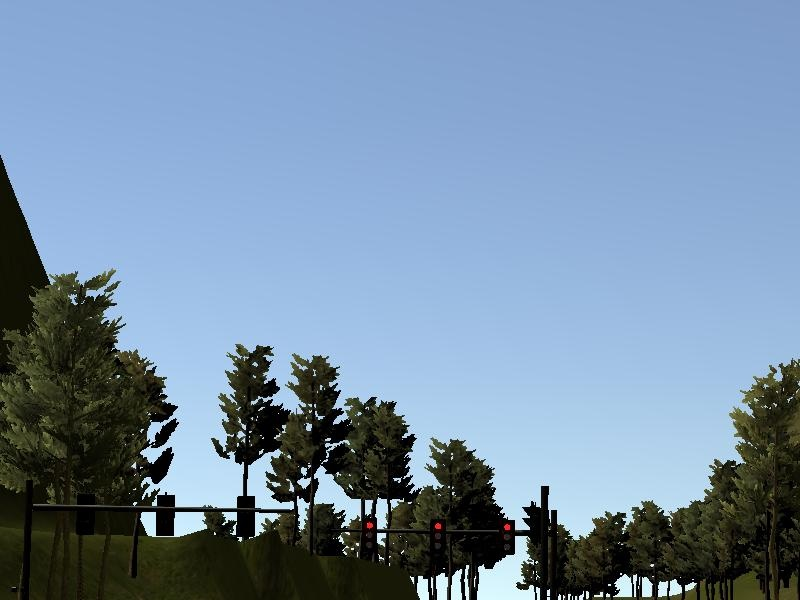red: (358, 519, 378, 558), (429, 517, 448, 557), (500, 520, 517, 555)
